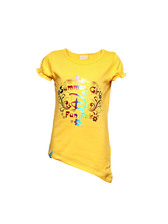clothoes: (32, 44, 137, 190)
